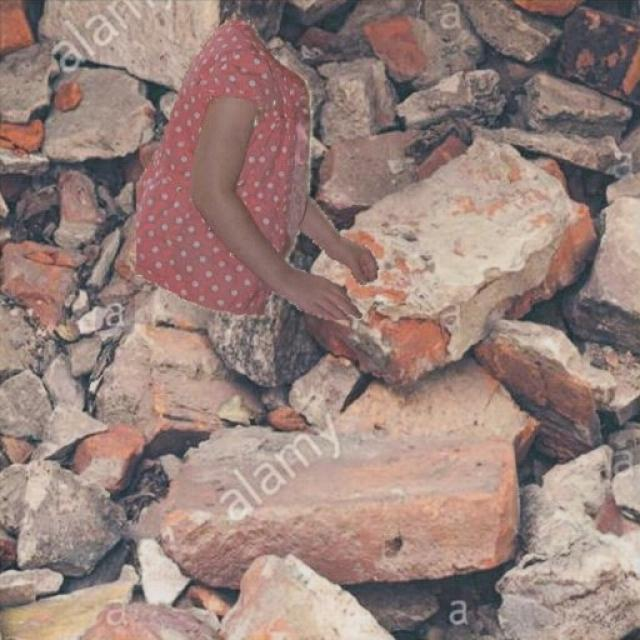Person in Rubble: (136, 20, 378, 319)
